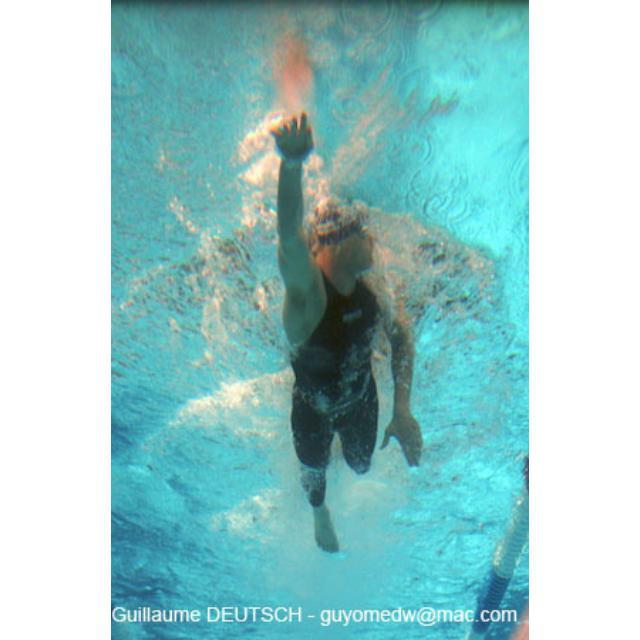human: (271, 116, 423, 558)
